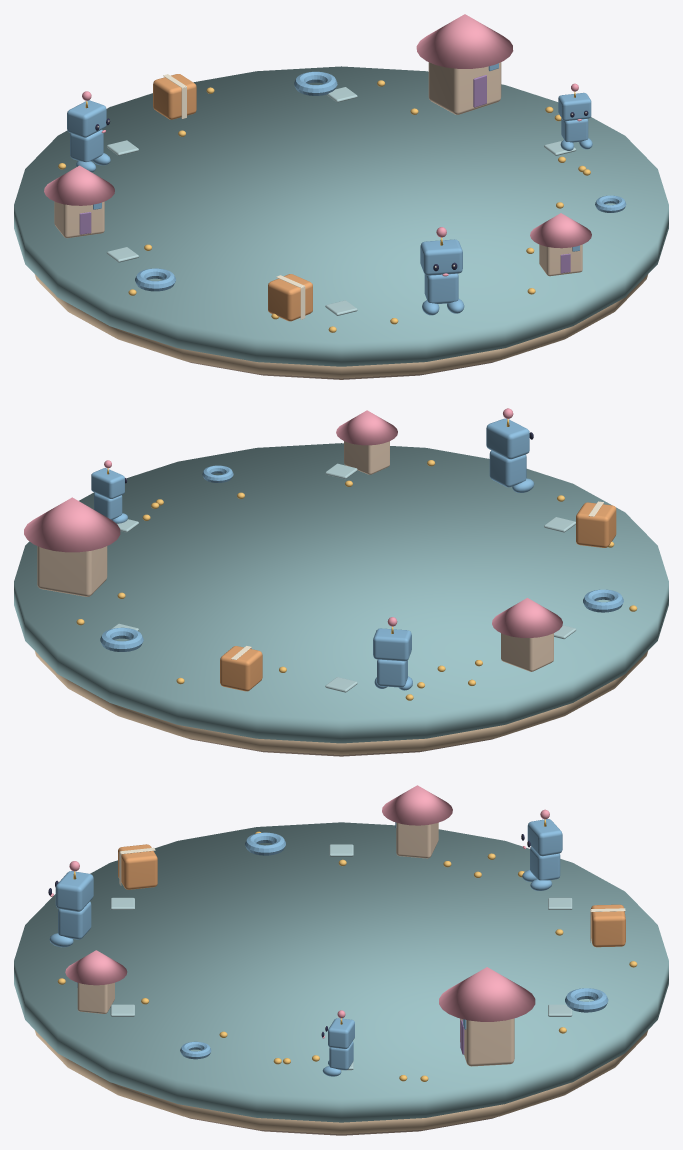
Rendered from world.glb.
3 views of the same model, one above another, from view 1: azimuth 30°, elevation 25°; view 2: azimuth 150°, elevation 25°; view 3: azimuth 270°, elevation 25° (orthographic).
Parts seen in each view (by area): view 1: Cone, Cone.001, house.001, house.002, robot.003, house.003, robot.002, parcel.002, robot.001, parcel.001, gear.001, gear.002 (+1 smaller); view 2: Cone, Cone.001, house.001, house.002, robot.003, house.003, robot.002, parcel.002, parcel.001, robot.001, gear.001, gear.002 (+1 smaller); view 3: Cone, Cone.001, house.001, house.002, robot.003, house.003, robot.002, parcel.002, robot.001, parcel.001, gear.001, gear.002 (+1 smaller).
Boxes of the visible parts, x1,y1,x2,y2 form: Cone: [14, 66, 668, 366]; Cone.001: [34, 274, 648, 378]; house.001: [416, 14, 513, 114]; house.002: [44, 165, 114, 238]; robot.003: [420, 227, 464, 315]; house.003: [530, 213, 591, 276]; robot.002: [67, 91, 110, 172]; parcel.002: [268, 274, 312, 321]; robot.001: [558, 83, 592, 150]; parcel.001: [153, 74, 196, 119]; gear.001: [294, 71, 337, 95]; gear.002: [135, 268, 175, 291]; Cone: [14, 443, 668, 743]; Cone.001: [35, 651, 647, 755]; house.001: [24, 497, 120, 596]; house.002: [492, 598, 562, 671]; robot.003: [486, 408, 534, 492]; house.003: [336, 410, 397, 474]; robot.002: [373, 617, 412, 690]; parcel.002: [576, 501, 616, 547]; parcel.001: [220, 646, 262, 691]; robot.001: [91, 460, 127, 523]; gear.001: [100, 627, 143, 651]; gear.002: [583, 589, 623, 612]; Cone: [14, 822, 668, 1122]; Cone.001: [34, 1030, 648, 1134]; house.001: [439, 967, 535, 1066]; house.002: [382, 785, 452, 858]; robot.003: [48, 861, 93, 947]; house.003: [65, 950, 127, 1013]; robot.002: [521, 809, 562, 890]; parcel.002: [118, 844, 157, 889]; robot.001: [321, 1010, 354, 1076]; parcel.001: [590, 904, 625, 947]; gear.001: [565, 988, 608, 1012]; gear.002: [245, 832, 285, 855].
Size of the model in its own units: 9.6 by 2.22 by 9.6.
